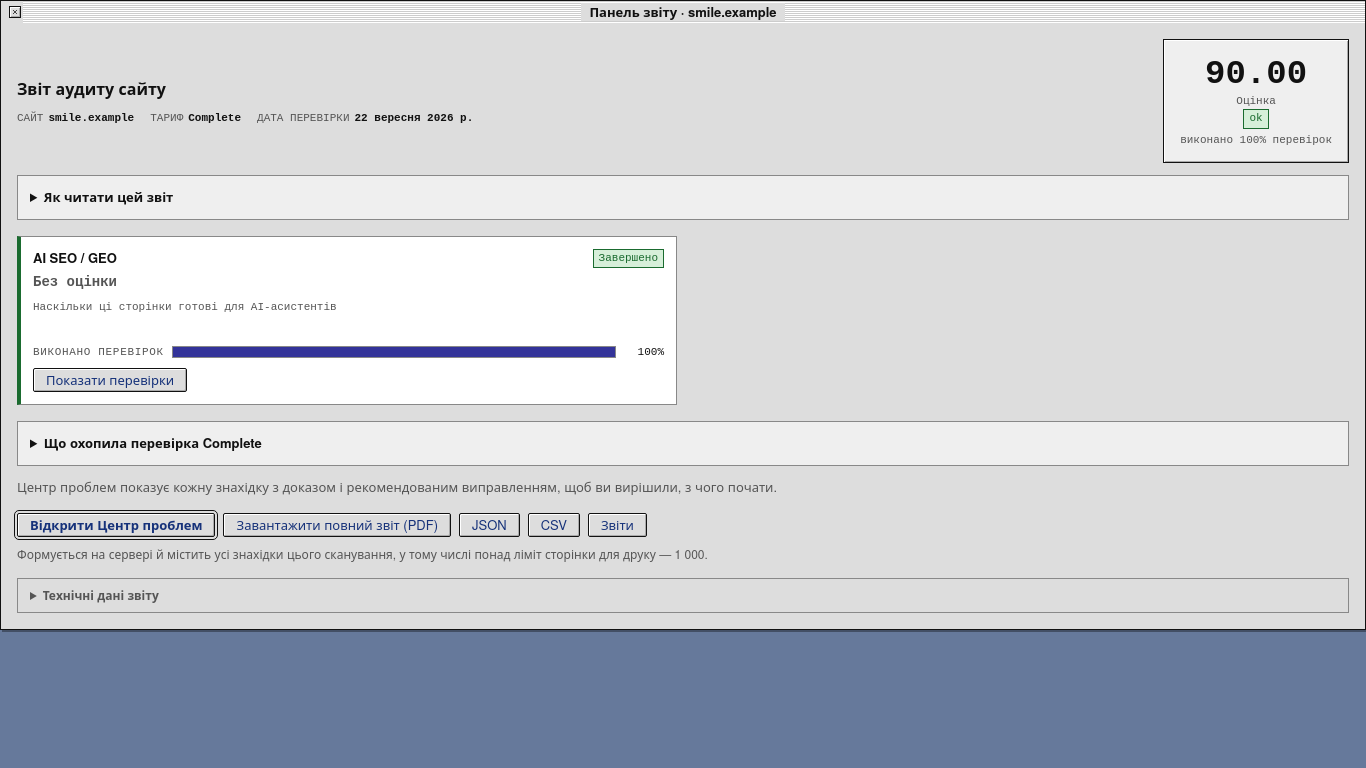
Test: Visibility by engine › names the minimum in Ukrainian too
Expected: the heading "Звіт аудиту сайту" is shown, [17, 77, 166, 100]
Click the text "AI SEO / GEO" at (347, 320), box [17, 236, 677, 405]
(page scrolled)
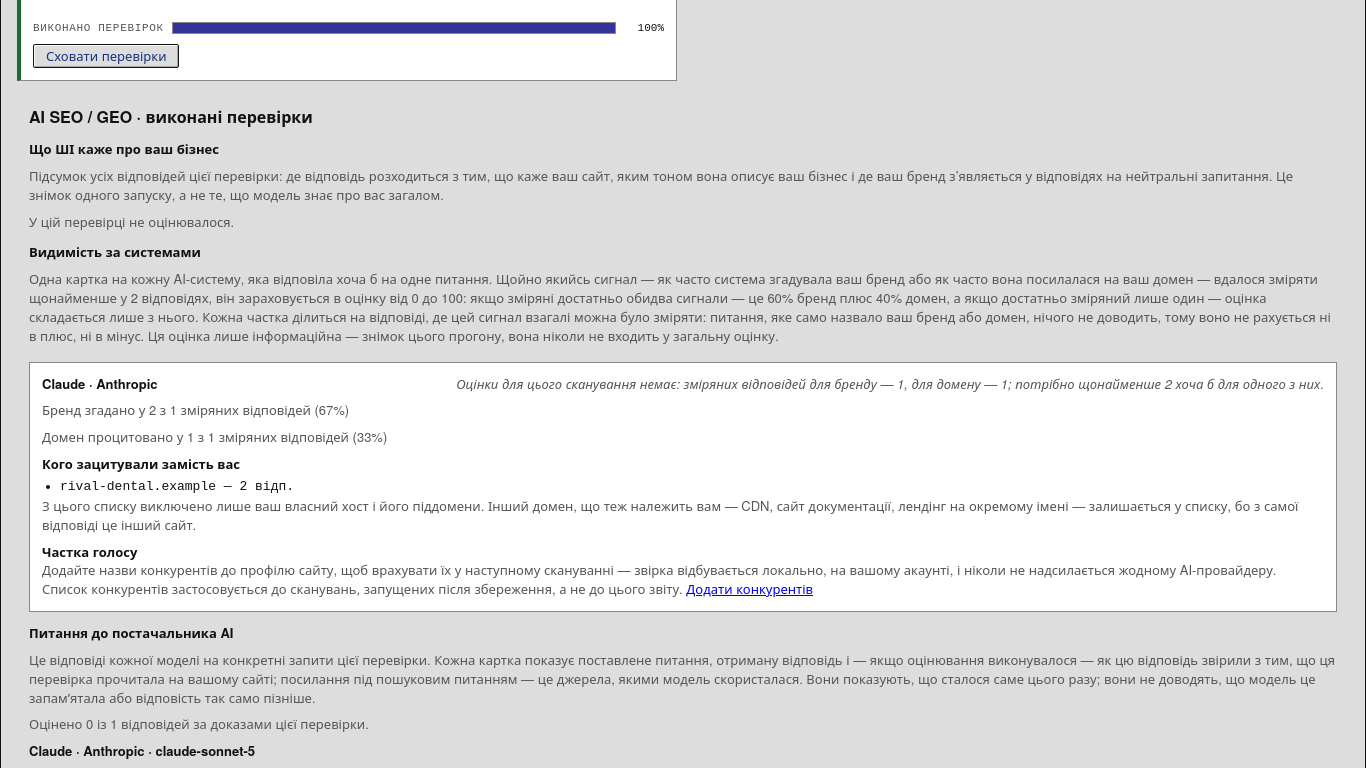
Now the text "потрібно щонайменше 2 хоча б для одного з них" is shown, box [456, 374, 1324, 393]
